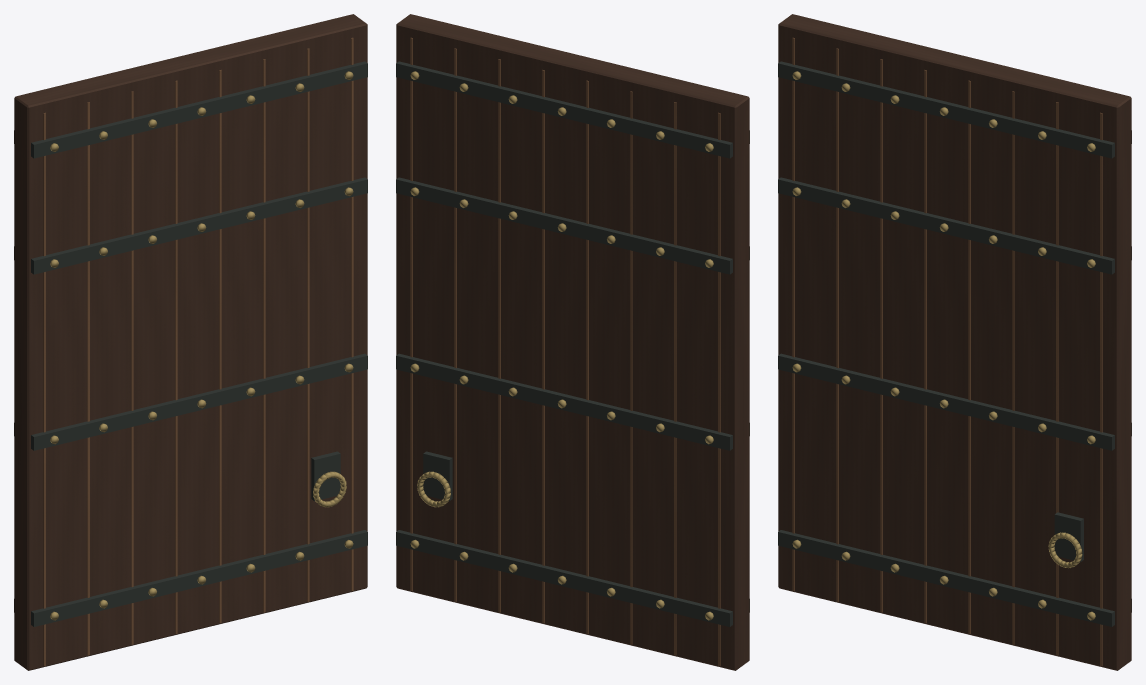
The model's file is gate_leaf_left.glb.
3 views of the same model, side by side, from view 1: azimuth 30°, elevation 25°; view 2: azimuth 150°, elevation 25°; view 3: azimuth 330°, elevation 25° (orthographic).
Parts seen in each view (by area): view 1: Gate_Timber, Gate_Iron, Gate_CarvedWood, Gate_Bronze; view 2: Gate_Timber, Gate_Iron, Gate_CarvedWood, Gate_Bronze; view 3: Gate_Timber, Gate_Iron, Gate_CarvedWood, Gate_Bronze.
Boxes of the visible parts, <box> form: Gate_Timber: <box>14,14,367,670</box>; Gate_Iron: <box>14,61,367,626</box>; Gate_CarvedWood: <box>43,37,353,666</box>; Gate_Bronze: <box>50,71,353,620</box>; Gate_Timber: <box>396,14,749,670</box>; Gate_Iron: <box>396,61,749,626</box>; Gate_CarvedWood: <box>410,37,720,666</box>; Gate_Bronze: <box>410,71,713,620</box>; Gate_Timber: <box>778,14,1131,670</box>; Gate_Iron: <box>778,61,1131,626</box>; Gate_CarvedWood: <box>792,37,1102,666</box>; Gate_Bronze: <box>792,71,1095,620</box>.
Size of the model in its own units: 4.15 by 6.58 by 0.664.
4 materials, 2 textured.
